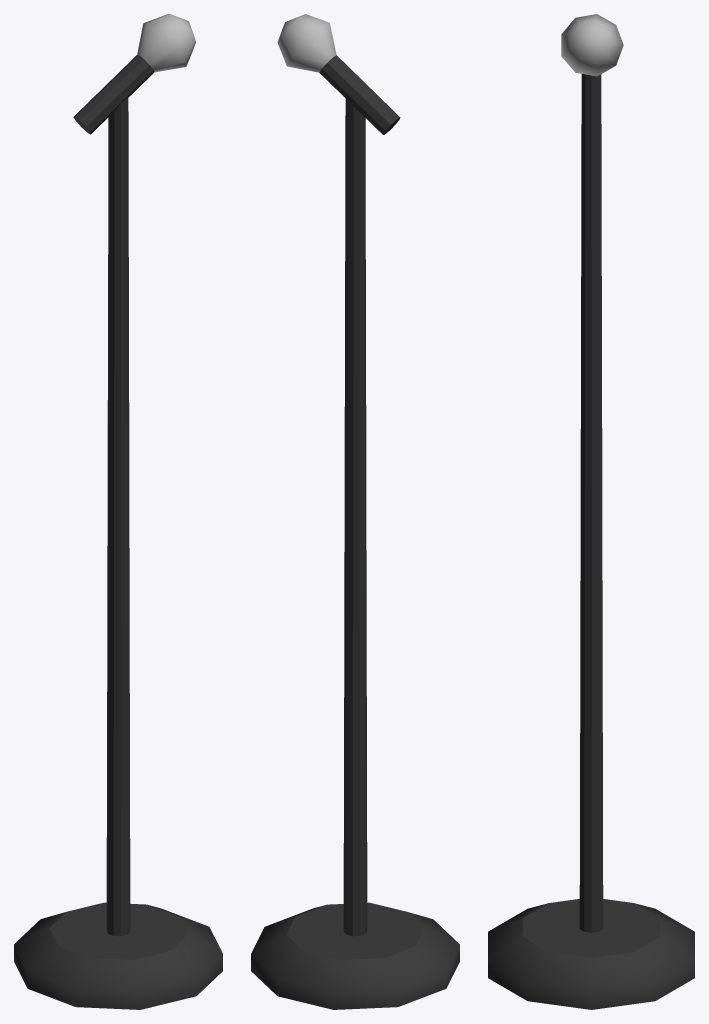
The model's file is MicStand.FBX.
3 views of the same model, side by side, from view 1: azimuth 30°, elevation 25°; view 2: azimuth 150°, elevation 25°; view 3: azimuth 270°, elevation 25° (orthographic). The views are drawn at different scales.
Parts seen in each view (by area): view 1: Sphere001; view 2: Sphere001; view 3: Sphere001.
Part boxes in pixels (<box>): Sphere001: <box>14,14,222,1009</box>; Sphere001: <box>251,14,459,1009</box>; Sphere001: <box>488,14,694,1009</box>.
Bounding box in the file's own units: 15.88 × 78.24 × 15.1.
1 material, 1 textured.
